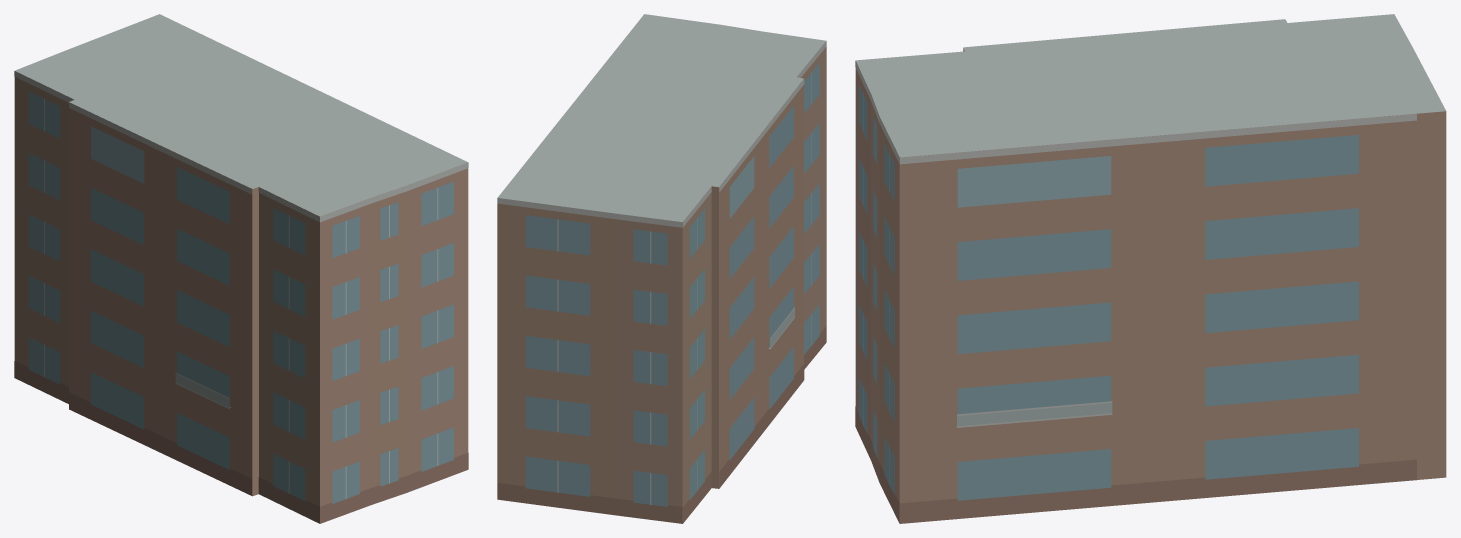
Rendered from survey-upis-32709145.glb.
The picture shows the model from 3 angles, left to right: view 1: azimuth 30°, elevation 25°; view 2: azimuth 150°, elevation 25°; view 3: azimuth 270°, elevation 25°; orthographic projection. The views are drawn at different scales.
Visible parts, largest first — view 1: survey-upis-32709145.tmp; view 2: survey-upis-32709145.tmp; view 3: survey-upis-32709145.tmp.
Boxes of the visible parts, x1,y1,x2,y2 form: survey-upis-32709145.tmp: [14, 14, 468, 523]; survey-upis-32709145.tmp: [497, 14, 826, 523]; survey-upis-32709145.tmp: [855, 14, 1446, 523].
Size of the model in its own units: 10.93 by 13 by 19.01.
